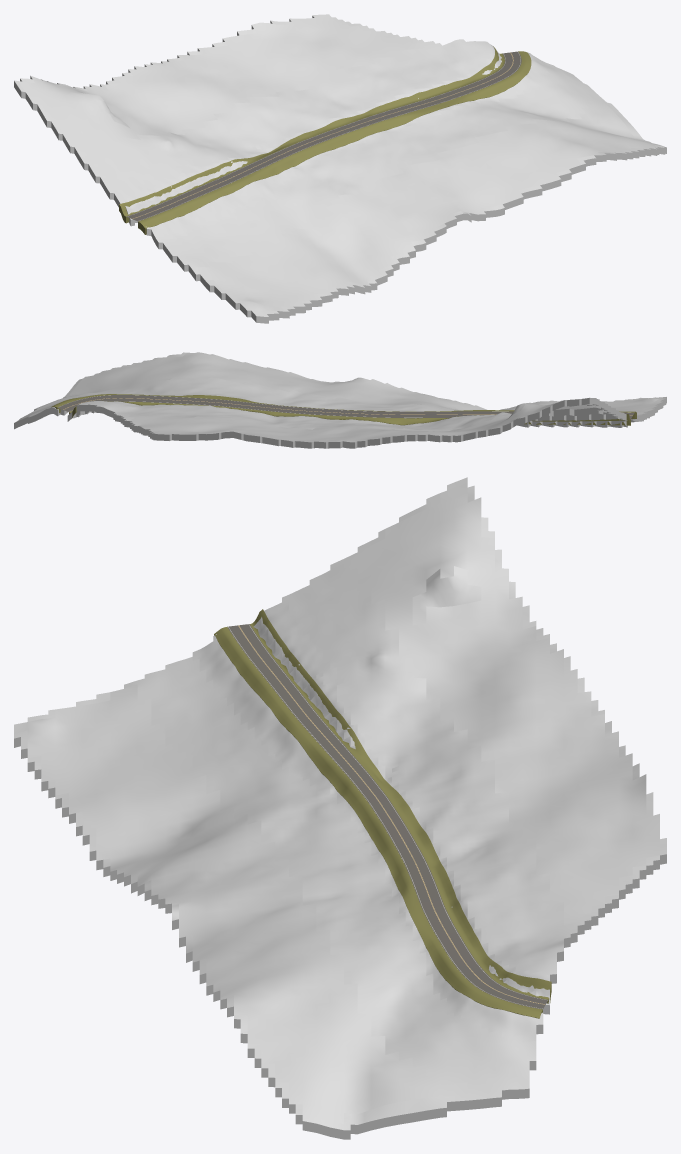
File: conz_179.glb
The picture shows the model from 3 angles, top to bottom: view 1: azimuth 30°, elevation 25°; view 2: azimuth 150°, elevation 25°; view 3: azimuth 270°, elevation 25°; orthographic projection. The views are drawn at different scales.
Parts seen in each view (by area): view 1: terrain179, verge179L, road179, verge179R; view 2: terrain179, road179, verge179R, verge179L, paint_yellow179, paint_white179; view 3: terrain179, road179, verge179L, verge179R.
Part boxes in pixels (bbox=[...]): terrain179: bbox=[14, 14, 666, 323]; verge179L: bbox=[138, 51, 531, 234]; road179: bbox=[126, 51, 521, 221]; verge179R: bbox=[119, 46, 504, 223]; terrain179: bbox=[14, 352, 666, 448]; road179: bbox=[58, 395, 634, 419]; verge179R: bbox=[69, 400, 630, 425]; verge179L: bbox=[51, 394, 636, 418]; paint_yellow179: bbox=[63, 398, 632, 415]; paint_white179: bbox=[60, 395, 630, 417]; terrain179: bbox=[14, 477, 666, 1139]; road179: bbox=[227, 624, 547, 1009]; verge179L: bbox=[214, 627, 542, 1018]; verge179R: bbox=[250, 609, 551, 1003].
Bounding box in the file's own units: 280 × 82.13 × 190.
